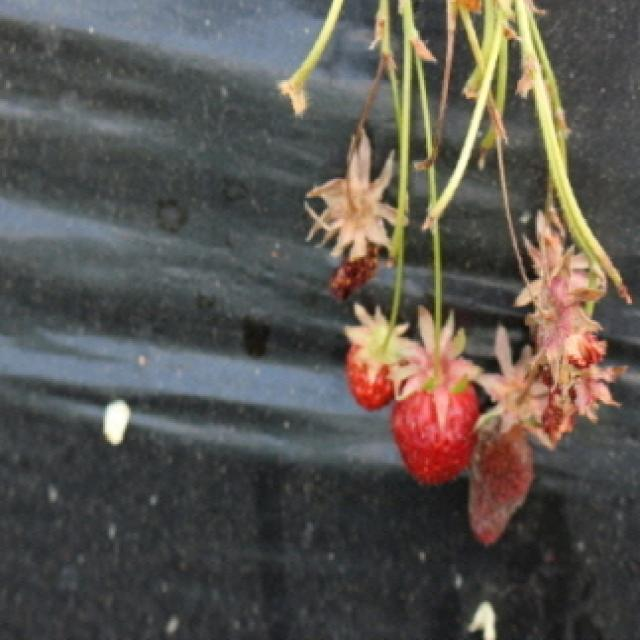Gray Mold: (467, 323, 558, 550)
